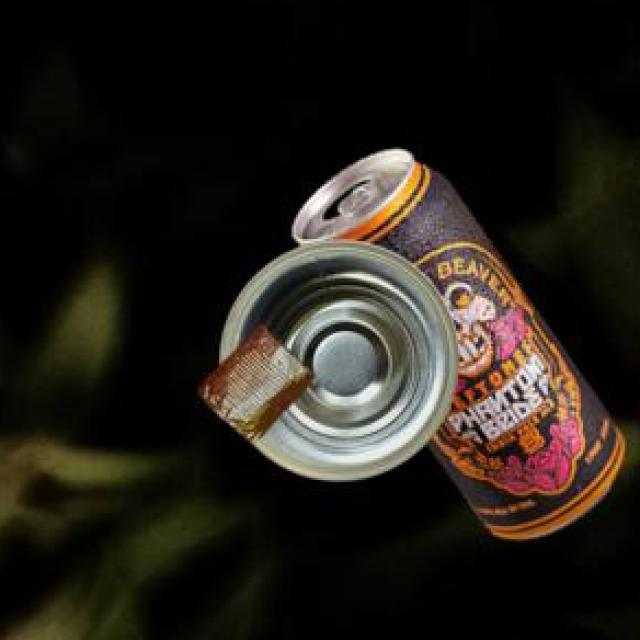logam: (297, 152, 626, 542), (222, 244, 461, 485), (203, 328, 317, 444)
